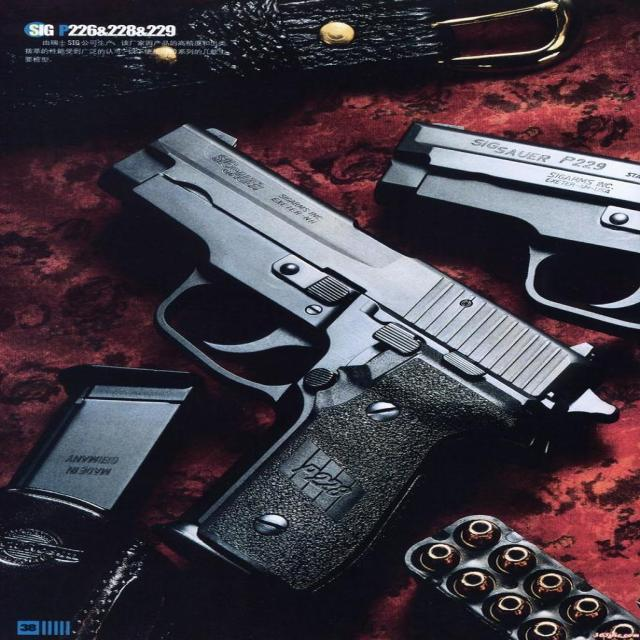Gun: (110, 125, 614, 589), (380, 122, 640, 332)
